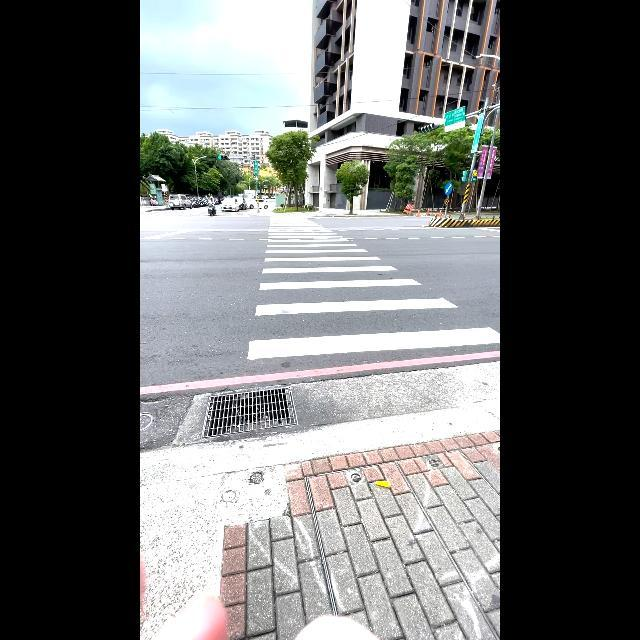sidewalk: (251, 209, 500, 360)
